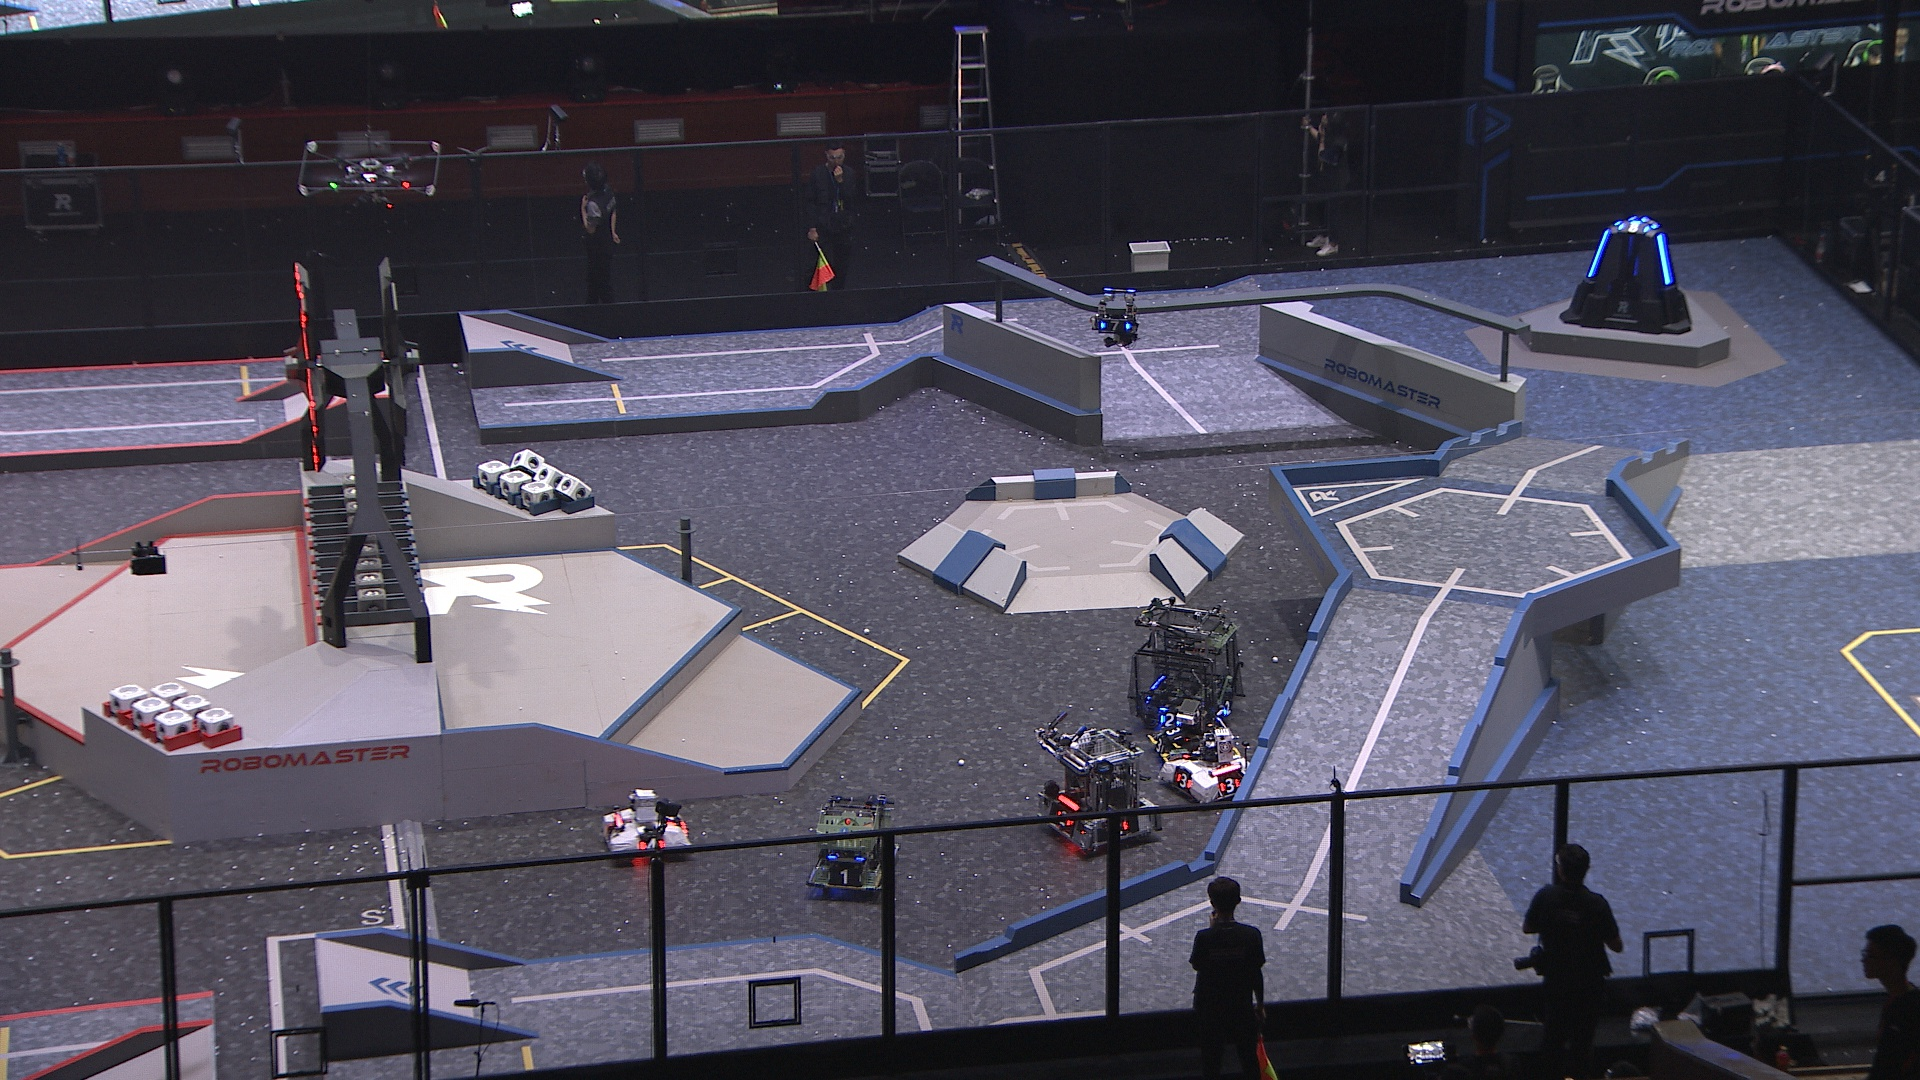armor: (1588, 229, 1610, 280), (1655, 233, 1673, 287), (828, 866, 860, 889), (1615, 220, 1652, 235), (1100, 319, 1135, 334), (1171, 770, 1195, 790), (637, 839, 669, 853), (1218, 777, 1244, 794), (1164, 725, 1185, 741), (1156, 712, 1178, 728), (661, 811, 680, 825), (1220, 699, 1236, 716), (1153, 735, 1167, 752)
base: (1556, 216, 1693, 334)
car: (1036, 731, 1160, 853), (1129, 603, 1244, 731), (802, 789, 898, 902), (596, 785, 694, 864), (1159, 728, 1247, 808), (1147, 705, 1240, 770)
watcher: (1088, 286, 1139, 345)
